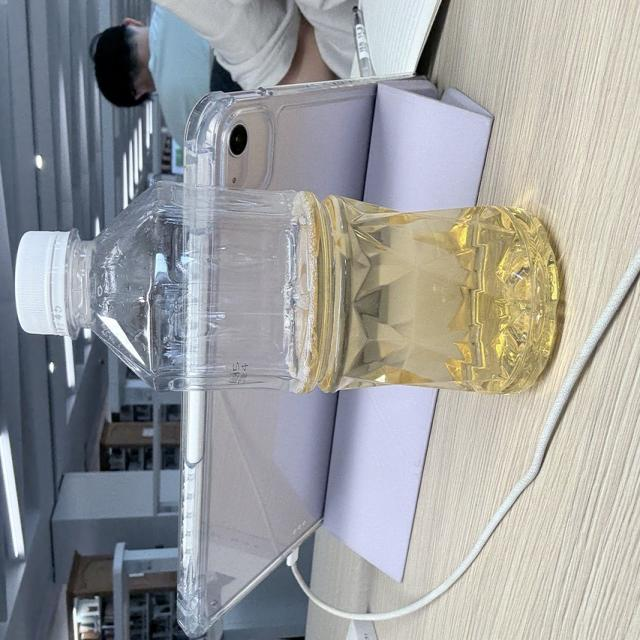medium: (16, 178, 556, 392)
